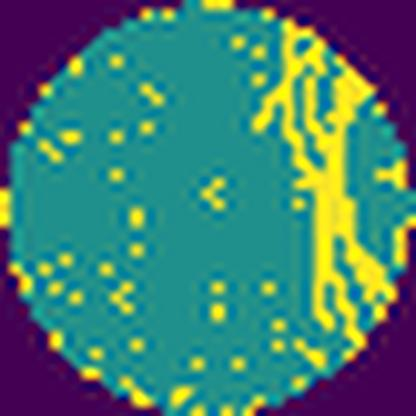Scratch: (251, 18, 398, 361)
